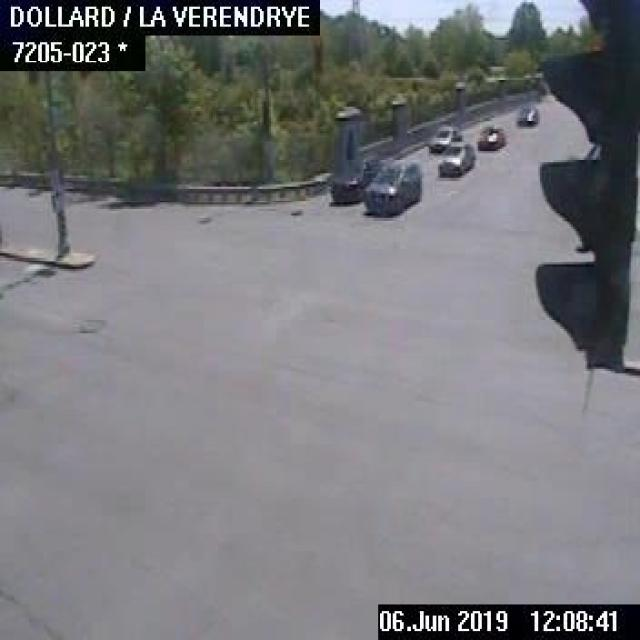vehicle: (363, 154, 422, 214), (328, 158, 371, 204), (436, 138, 472, 176), (427, 122, 461, 154), (474, 122, 504, 149), (513, 102, 538, 124)
